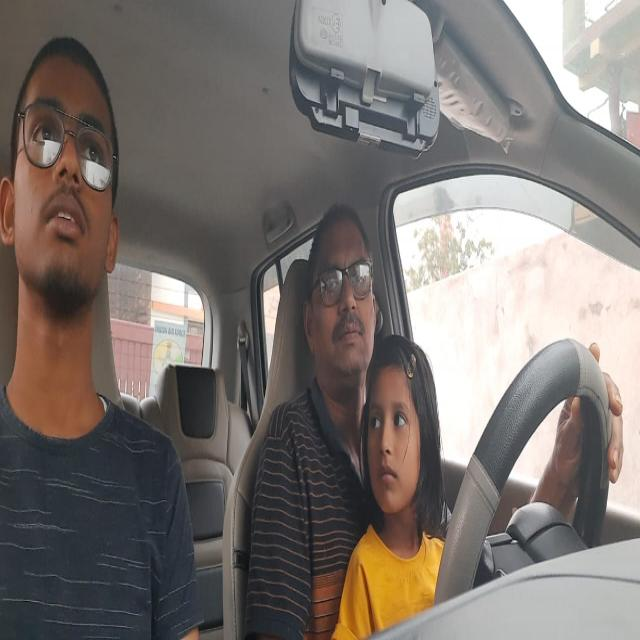child: (366, 333, 443, 552)
person: (3, 30, 124, 333), (305, 194, 384, 410)
